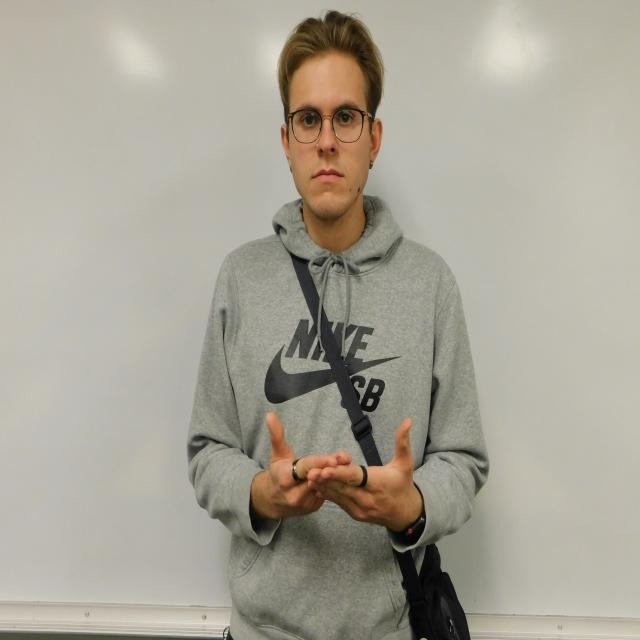good: (266, 412, 415, 526)
